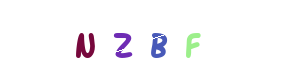B: (105, 0, 185, 80)
F: (137, 0, 217, 80)
N: (45, 0, 125, 80)
Z: (100, 0, 180, 80)
